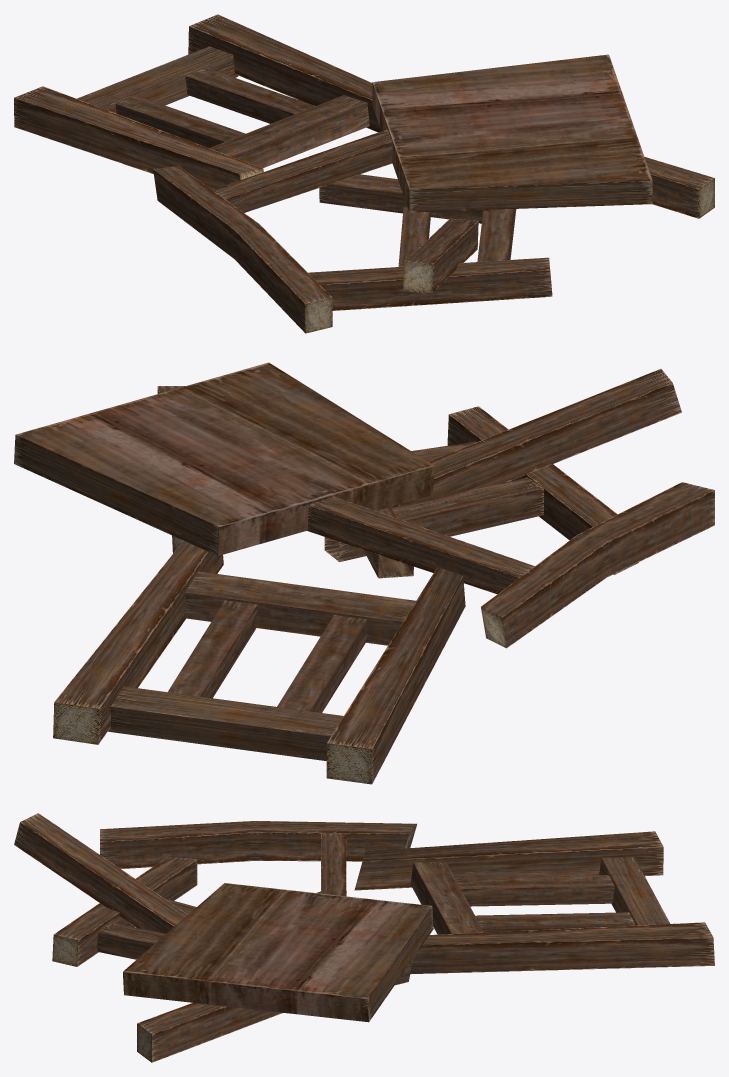
File: pir_m_prp_set_chair_broken.fbx
The picture shows the model from 3 angles, top to bottom: view 1: azimuth 30°, elevation 25°; view 2: azimuth 150°, elevation 25°; view 3: azimuth 270°, elevation 25°; orthographic projection. The views are drawn at different scales.
Parts seen in each view (by area): view 1: wood02.001, wood02, wood08, wood03.001, wood01, wood04.001, wood04, wood03, wood05, wood09, wood07, wood06 (+3 smaller); view 2: wood02.001, wood08, wood09, wood02, wood01, wood03, wood04, wood04.001, wood05.001, wood03.001, wood06, wood05 (+1 smaller); view 3: wood02.001, wood01, wood08, wood02, wood09, wood01.001, wood06, wood03.001, wood04, wood03, wood05, wood06.001 (+1 smaller).
Part boxes in pixels (<box>): wood02.001: <box>372,54,652,212</box>; wood02: <box>14,86,263,189</box>; wood08: <box>153,166,332,333</box>; wood03.001: <box>308,257,552,310</box>; wood01: <box>188,14,380,132</box>; wood04.001: <box>212,129,392,212</box>; wood04: <box>209,95,369,168</box>; wood03: <box>77,46,238,113</box>; wood05: <box>185,68,315,123</box>; wood09: <box>403,218,478,293</box>; wood07: <box>319,174,491,223</box>; wood06: <box>115,95,245,147</box>; wood02.001: <box>14,362,434,555</box>; wood08: <box>481,482,714,648</box>; wood09: <box>391,369,681,508</box>; wood02: <box>326,567,465,784</box>; wood01: <box>53,540,223,744</box>; wood03: <box>108,686,343,760</box>; wood04: <box>185,571,415,645</box>; wood04.001: <box>307,497,534,594</box>; wood05.001: <box>324,477,543,561</box>; wood03.001: <box>447,406,638,574</box>; wood06: <box>277,615,367,712</box>; wood05: <box>168,600,258,698</box>; wood02.001: <box>123,883,433,1022</box>; wood01: <box>410,922,714,974</box>; wood08: <box>100,821,416,868</box>; wood02: <box>354,831,663,890</box>; wood09: <box>14,813,187,933</box>; wood01.001: <box>137,959,412,1062</box>; wood06: <box>455,875,614,906</box>; wood03.001: <box>52,857,197,966</box>; wood04: <box>410,862,483,934</box>; wood03: <box>599,857,670,925</box>; wood05: <box>475,912,634,932</box>; wood06.001: <box>97,922,165,959</box>.
Bounding box in the file's own units: 271 × 52.97 × 382.
Materials: 1 (1 with a texture image).
